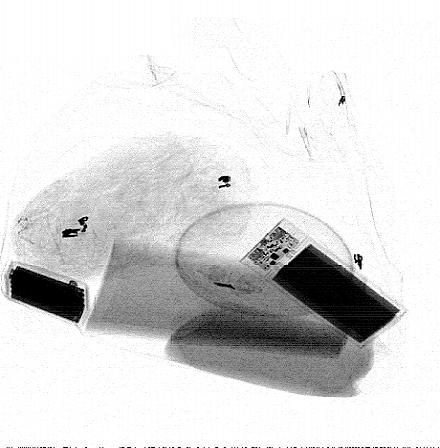Powerbank: (237, 216, 408, 350), (4, 260, 89, 327)
